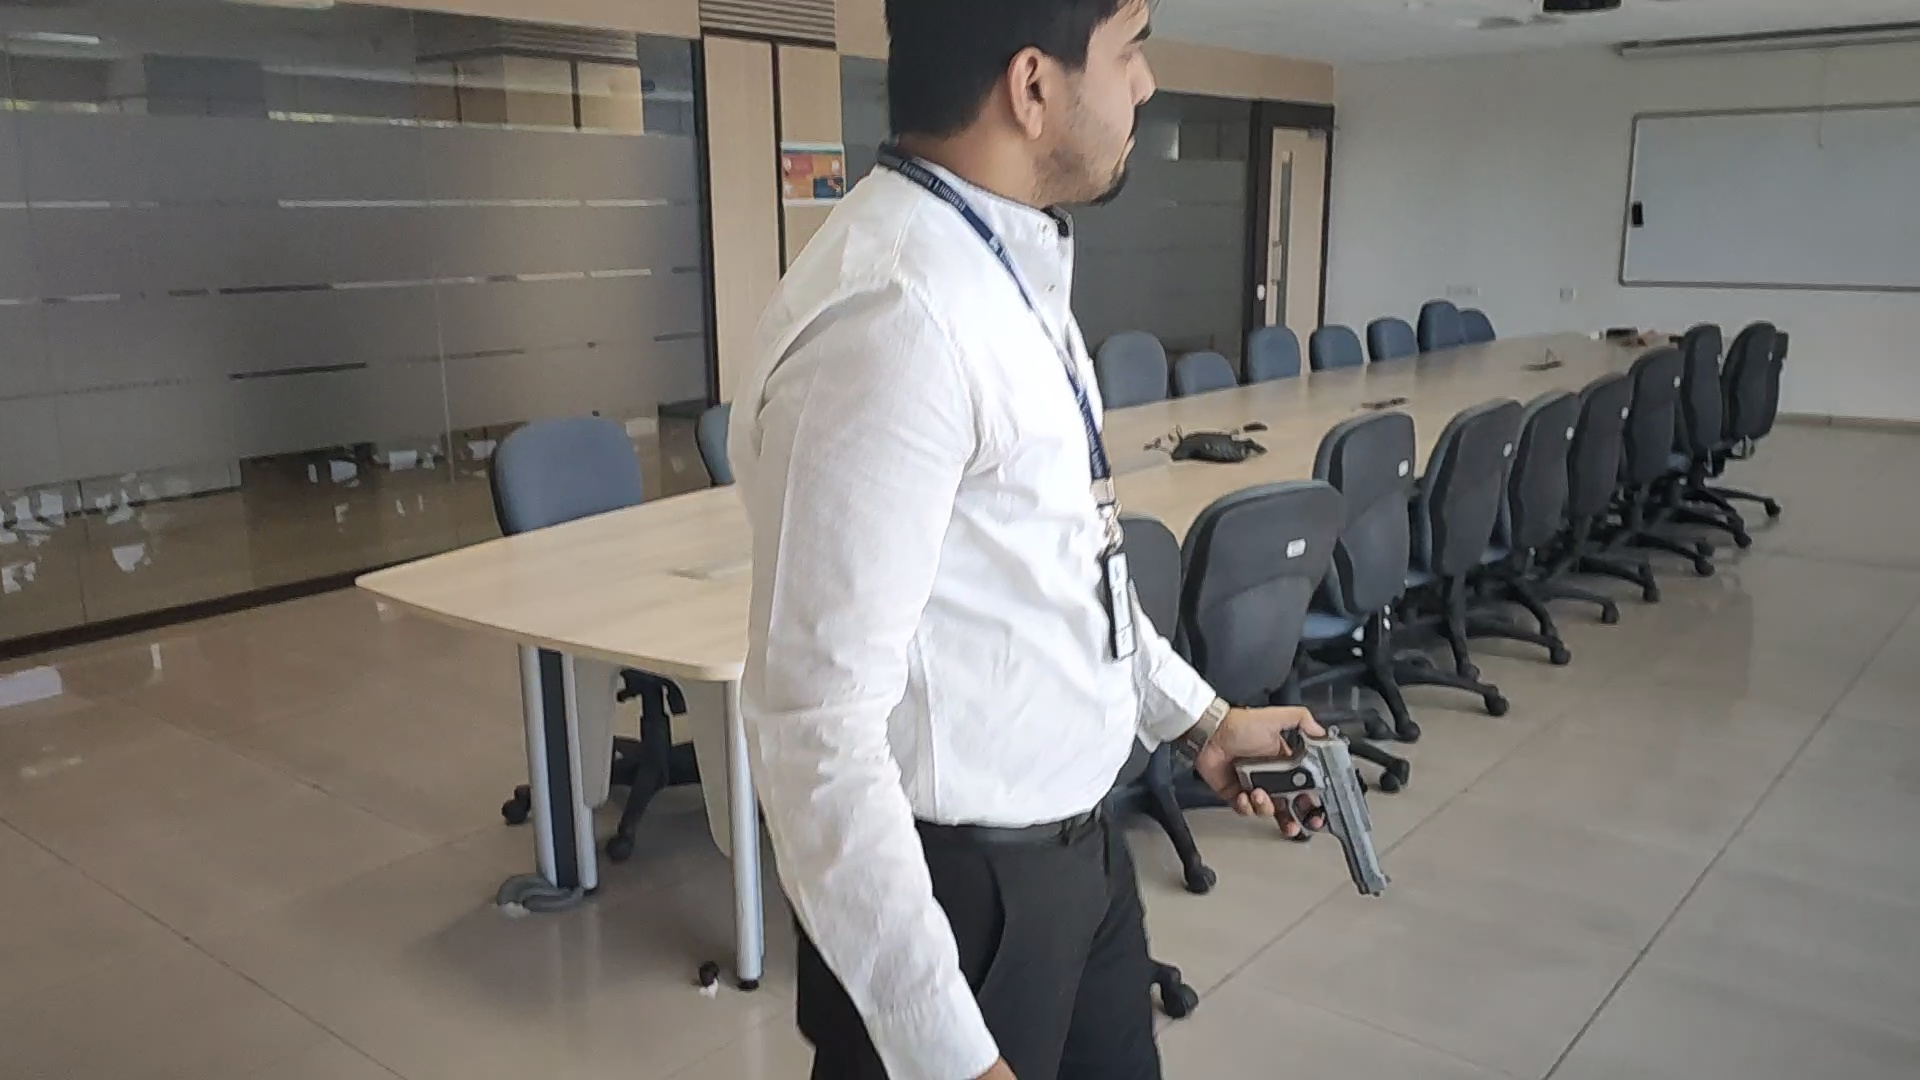gun: (1232, 736, 1385, 899)
